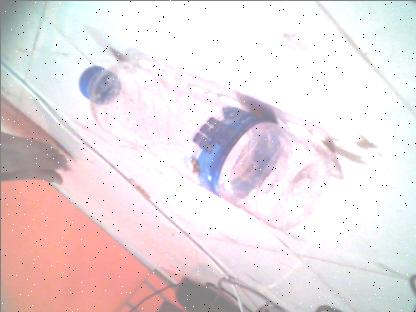Plastic Bottle: (66, 19, 341, 254)
